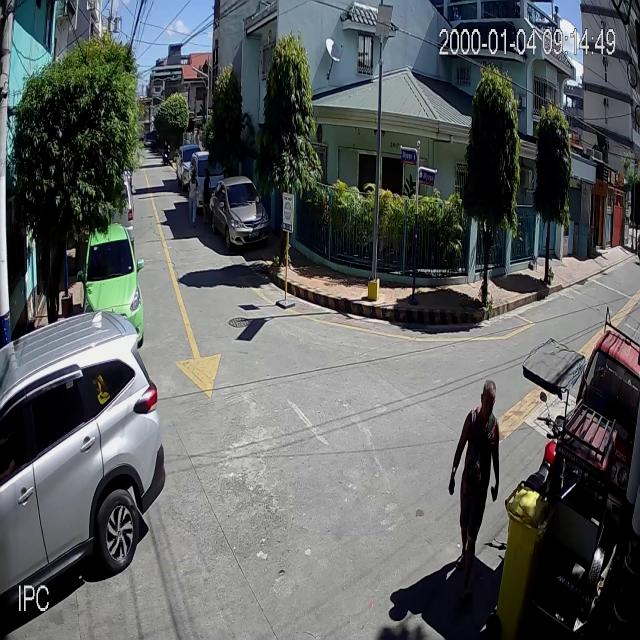walking: (448, 378, 501, 614), (188, 167, 199, 227), (202, 167, 212, 225)
